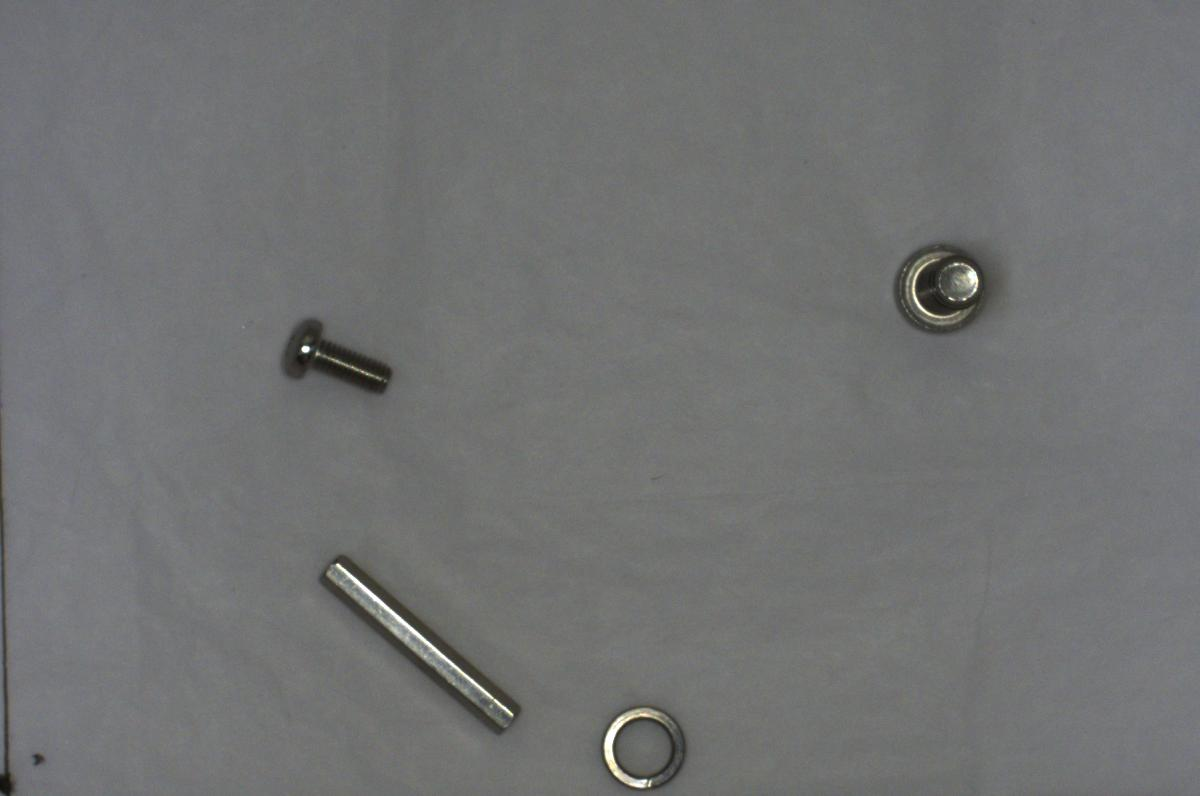Double hexagonal column: (314, 552, 521, 739)
Hexagon screw: (893, 230, 994, 330)
Round head screw: (274, 316, 401, 400)
Spring washer: (595, 699, 695, 794)
